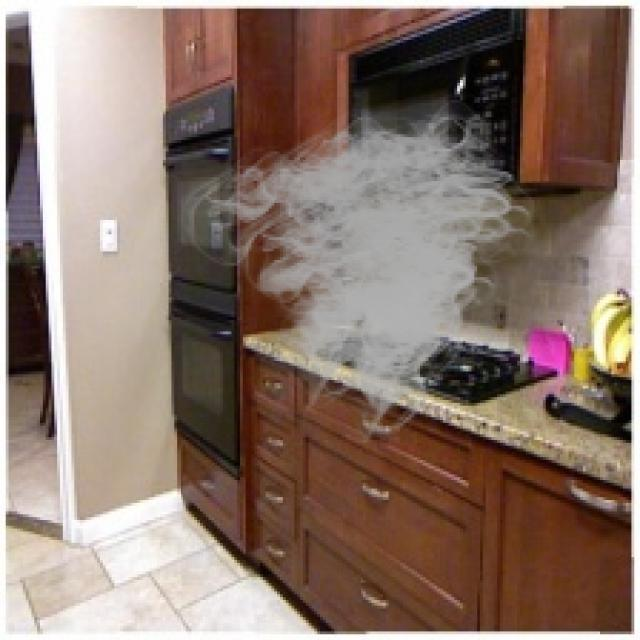Smoke: (174, 91, 546, 443)
